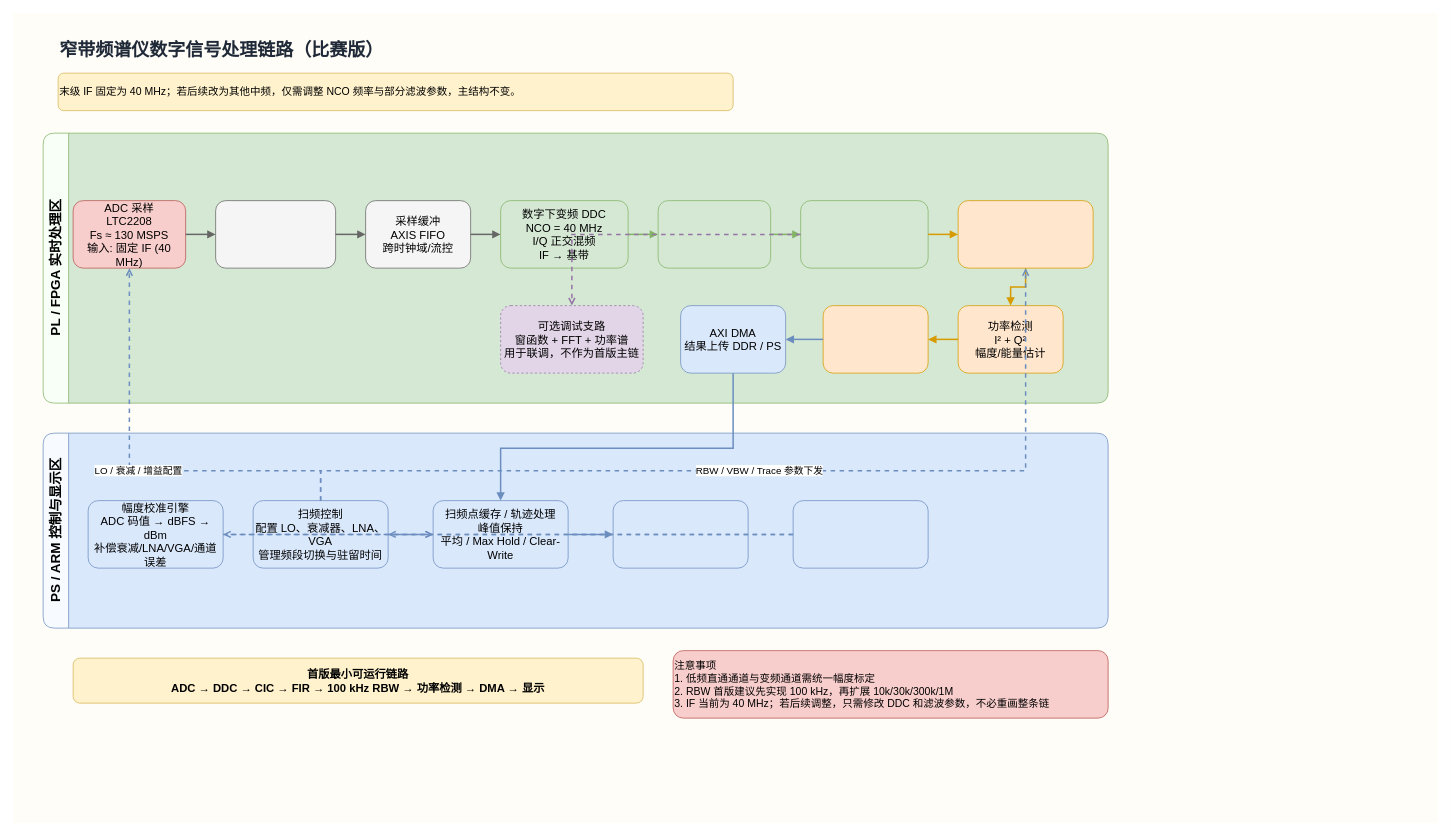
Image size: 1451x836. Some labels were removed from this diagram. Here are the shapes that lost their labels. From the top down, the centre of each, then its label:
At [275,234]: "ADC 接口与对齐 LVDS 解串/时序对齐 去直流偏置 溢出检测".
At [714,234]: "CIC 抽取 粗降采样 减轻后级计算量".
At [864,234]: "FIR 补偿 / 低通 修正 CIC 通带起伏 抑制抽取混叠".
At [1025,234]: "RBW 数字滤波器组 10k / 30k / 100k / 300k / 1M 可切换系数或多级抽取".
At [875,339]: "VBW / 平均 / 平滑 快扫/慢扫显示控制 降低抖动".
At [680,534]: "UI 显示 频谱曲线 / Marker / 瀑布图 RBW/VBW/参考电平显示".
At [860,534]: "参数与校准表 频段校准系数 幅度修正 / 本底修正".
